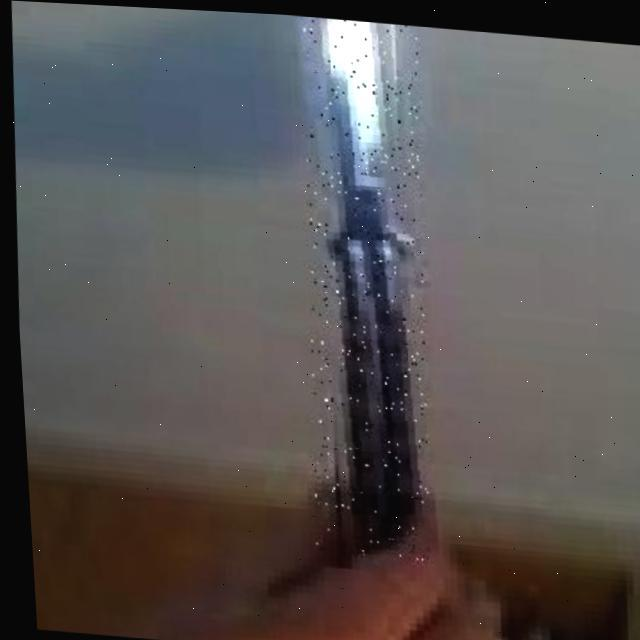knife: (283, 11, 443, 556)
